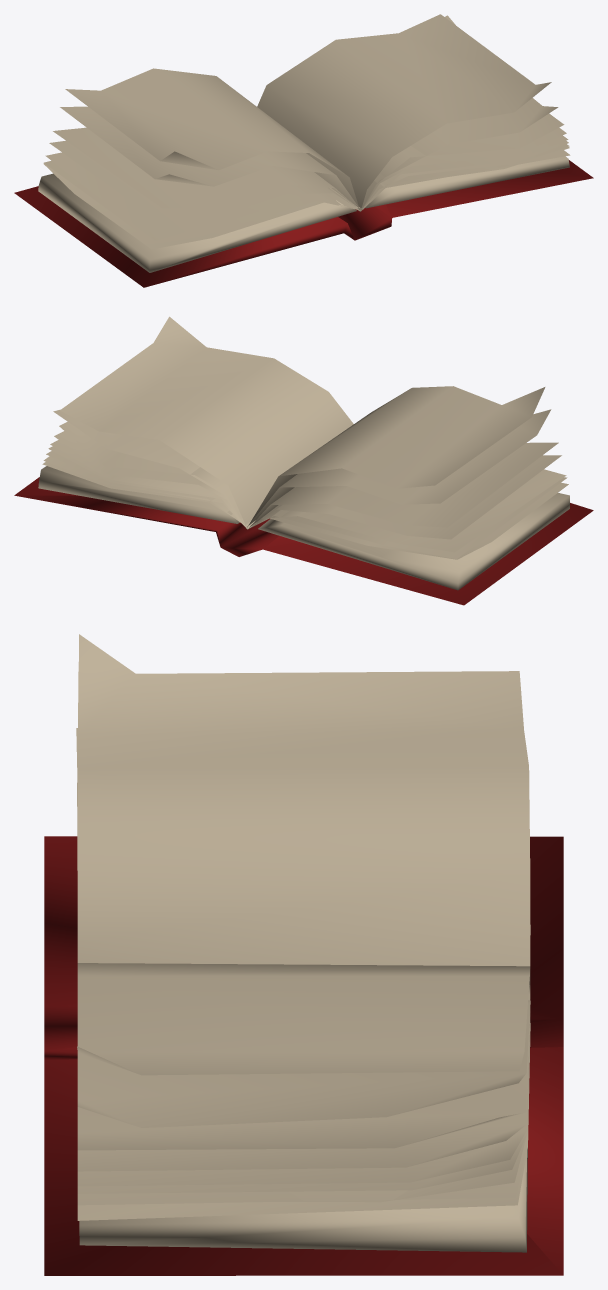
File: open_book.fbx
The picture shows the model from 3 angles, top to bottom: view 1: azimuth 30°, elevation 25°; view 2: azimuth 150°, elevation 25°; view 3: azimuth 270°, elevation 25°; orthographic projection. The views are drawn at different scales.
Visible parts, largest first — view 1: open book; view 2: open book; view 3: open book.
Boxes of the visible parts, x1,y1,x2,y2 form: open book: (14,14,593,287); open book: (14,316,593,605); open book: (44,634,563,1275).
Size of the model in its own units: 80.03 by 21.61 by 40.
